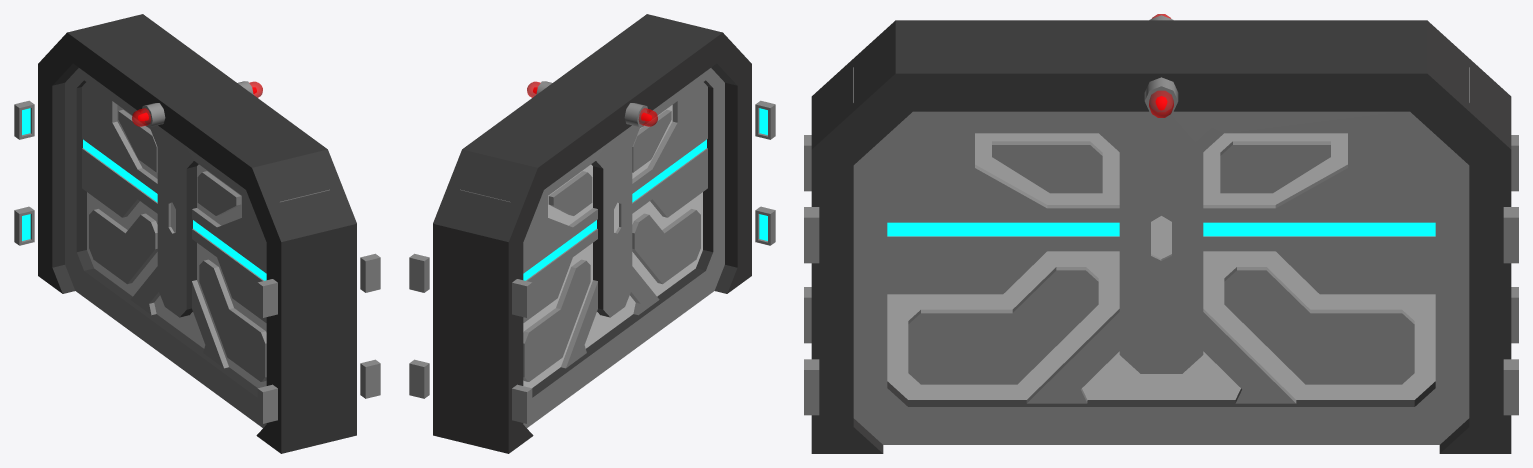
File: door.fbx
The picture shows the model from 3 angles, left to right: view 1: azimuth 30°, elevation 25°; view 2: azimuth 150°, elevation 25°; view 3: azimuth 270°, elevation 25°; orthographic projection. The views are drawn at different scales.
Parts seen in each view (by area): view 1: Cube (5).002, Cube (5).005, Cube (5).008, Cube, Cylinder; view 2: Cube (5).002, Cube (5).008, Cube (5).005, Cube, Cylinder; view 3: Cube (5).005, Cube (5).008, Cube (5).002, Cube, Cylinder.
Boxes of the visible parts, x1,y1,x2,y2 form: Cube (5).002: [38, 14, 356, 453]; Cube (5).005: [65, 68, 182, 361]; Cube (5).008: [172, 136, 329, 427]; Cube: [14, 100, 380, 423]; Cylinder: [132, 81, 262, 126]; Cube (5).002: [433, 14, 751, 453]; Cube (5).008: [607, 68, 724, 361]; Cube (5).005: [460, 136, 617, 427]; Cube: [409, 100, 775, 423]; Cylinder: [527, 81, 657, 126]; Cube (5).005: [1161, 67, 1469, 444]; Cube (5).008: [853, 67, 1161, 444]; Cube (5).002: [811, 20, 1511, 453]; Cube: [804, 135, 1518, 415]; Cylinder: [1144, 14, 1178, 117].
Bounding box in the file's own units: 10.2 × 20 × 34.05.
